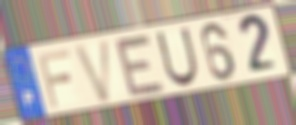2: (236, 12, 286, 80)
6: (200, 20, 238, 84)
E: (111, 33, 168, 99)
F: (36, 47, 73, 110)
U: (154, 25, 201, 89)
V: (71, 36, 114, 106)
